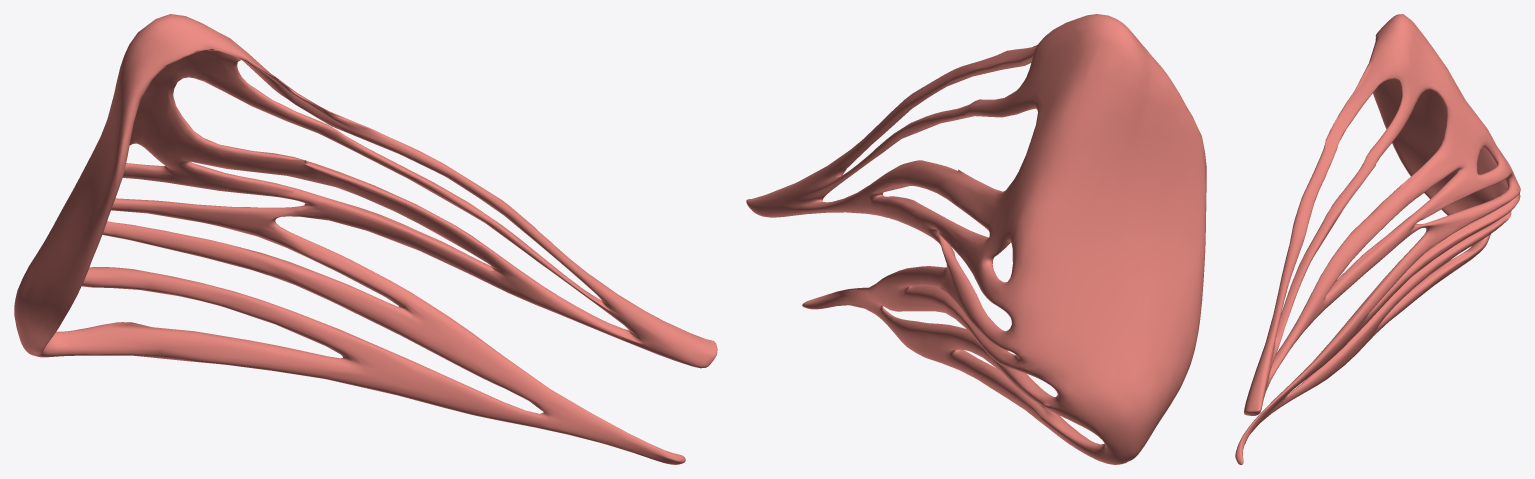
3 views of the same model, side by side, from view 1: azimuth 30°, elevation 25°; view 2: azimuth 150°, elevation 25°; view 3: azimuth 270°, elevation 25° (orthographic). The views are drawn at different scales.
Visible parts, largest first — view 1: leaftlet2.014; view 2: leaftlet2.014; view 3: leaftlet2.014.
Boxes of the visible parts, x1,y1,x2,y2 form: leaftlet2.014: (14,14,717,464); leaftlet2.014: (746,14,1206,464); leaftlet2.014: (1235,14,1520,464).
Size of the model in its own units: 1.24 by 0.9978 by 0.8181.
